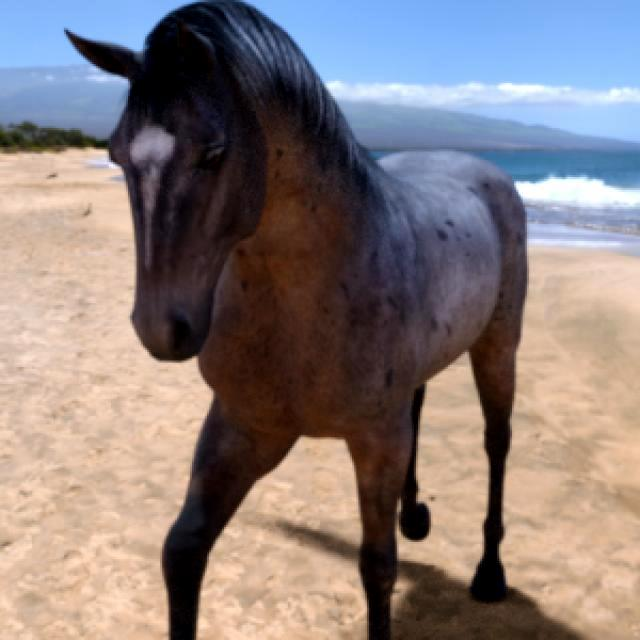horse: (68, 2, 528, 639)
